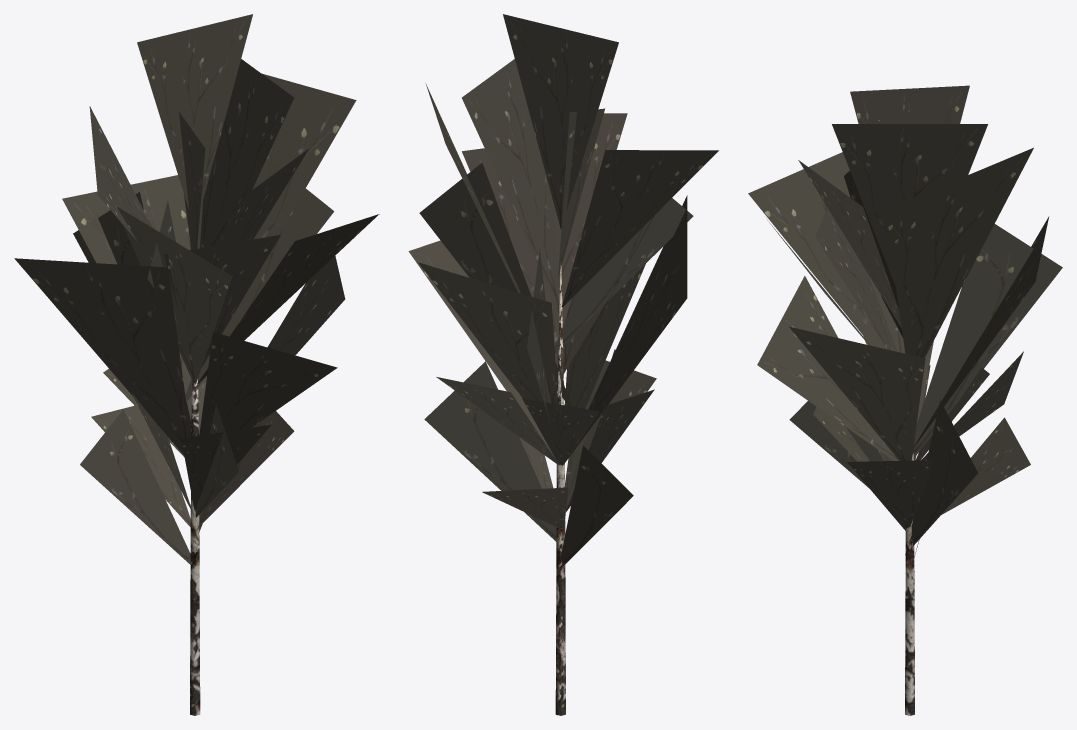
Rendered from tree_birch.FBX.
3 renders of one model, left to right at view 1: azimuth 30°, elevation 25°; view 2: azimuth 150°, elevation 25°; view 3: azimuth 270°, elevation 25°, orthographic. The views are drawn at different scales.
Parts seen in each view (by area): view 1: branch_birch, trunk_birch; view 2: branch_birch, trunk_birch; view 3: branch_birch, trunk_birch.
Boxes of the visible parts, x1,y1,x2,y2 form: branch_birch: (14,14,379,564); trunk_birch: (190,379,200,715); branch_birch: (408,14,718,565); trunk_birch: (555,263,565,715); branch_birch: (748,85,1062,557); trunk_birch: (905,445,914,715).
Size of what is drawn, in the model's own units: 218 by 473 by 201.
